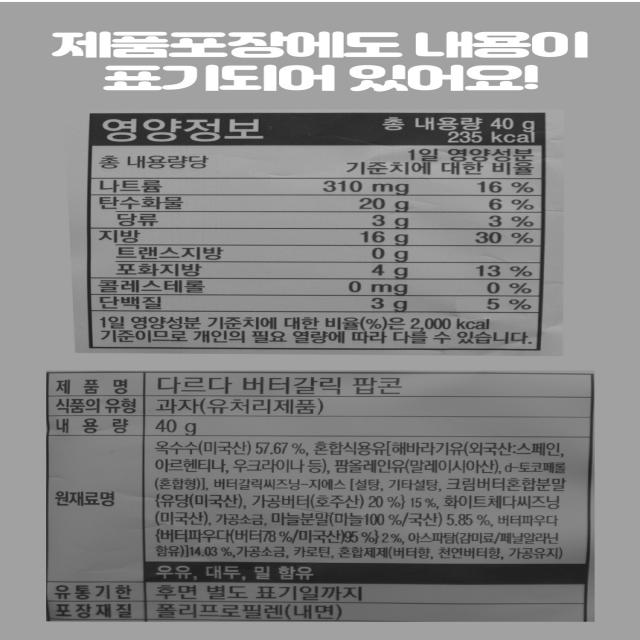Nutrition Label: (76, 105, 562, 356)
